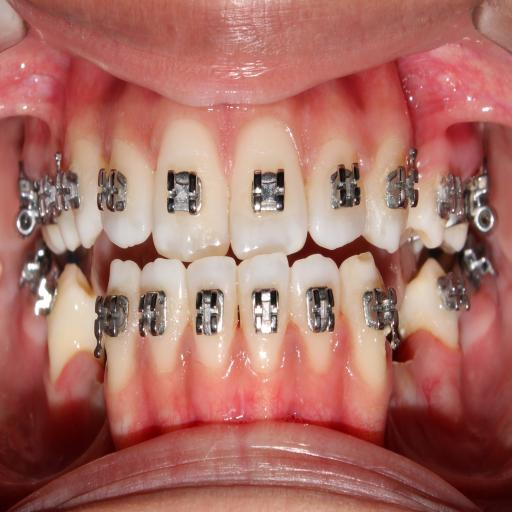correct_brace: (359, 282, 405, 358), (383, 140, 421, 218), (247, 163, 291, 219), (164, 162, 205, 220), (327, 156, 363, 217), (136, 285, 171, 345), (304, 281, 338, 342), (96, 161, 131, 219), (193, 284, 227, 342), (250, 285, 282, 339)
incorrect_brace: (94, 127, 156, 252), (308, 129, 366, 253), (291, 251, 343, 374), (138, 252, 188, 377)
